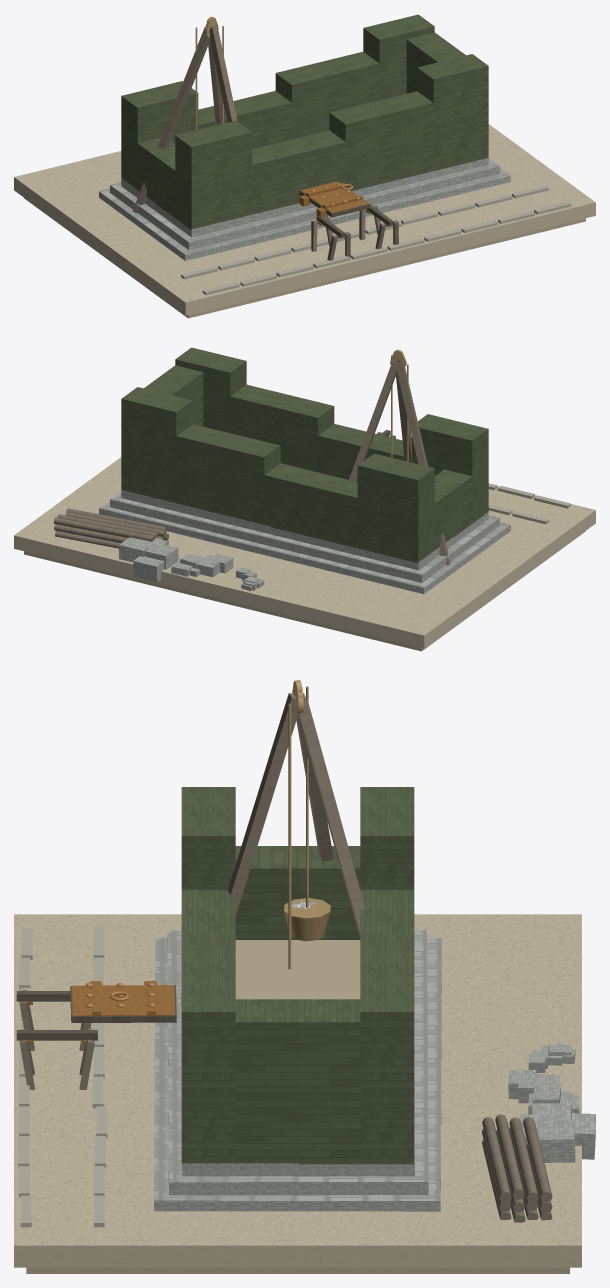
File: lin-4-construction.glb
3 renders of one model, top to bottom at view 1: azimuth 30°, elevation 25°; view 2: azimuth 150°, elevation 25°; view 3: azimuth 270°, elevation 25°, orthographic. The views are drawn at different scales.
Bounding box in the file's own units: 29 × 14.53 × 21.52.
Materials: 22 (15 with a texture image).
